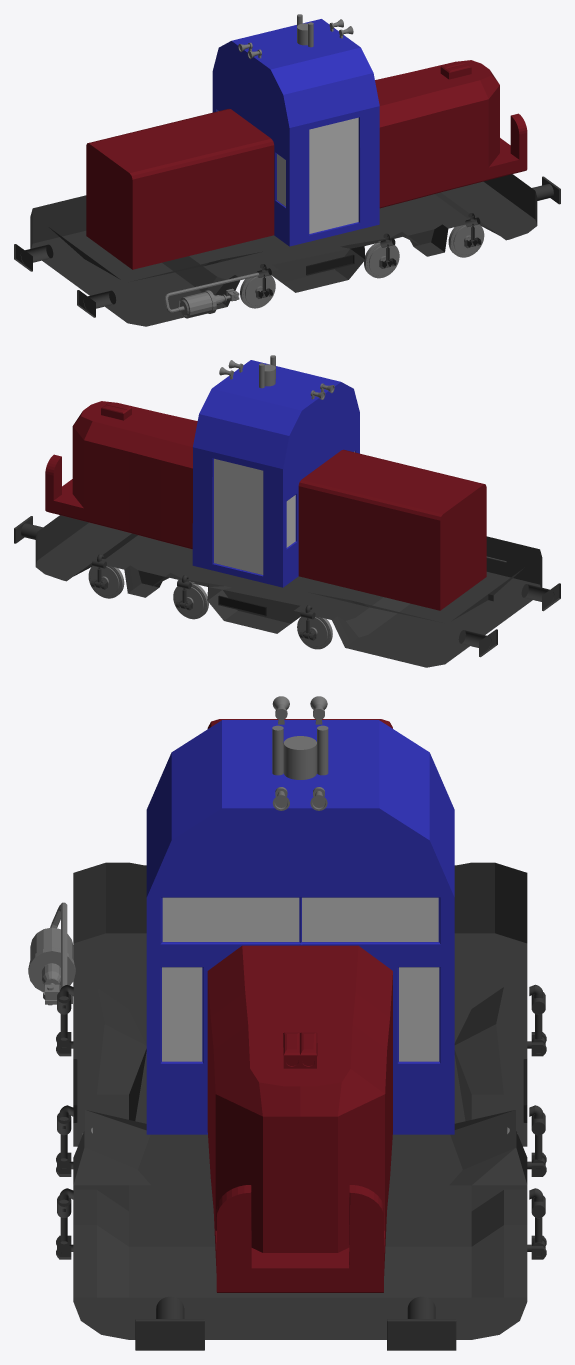
File: Lok_002.fbx
3 renders of one model, top to bottom at view 1: azimuth 30°, elevation 25°; view 2: azimuth 150°, elevation 25°; view 3: azimuth 270°, elevation 25°, orthographic. The views are drawn at different scales.
Visible parts, largest first — view 1: work; view 2: work; view 3: work.
Part boxes in pixels (box(x1,y1,x2,y2)): work: box(14, 14, 560, 326); work: box(14, 355, 560, 667); work: box(28, 696, 546, 1350).
Bounding box in the file's own units: 1035 × 476 × 497.
